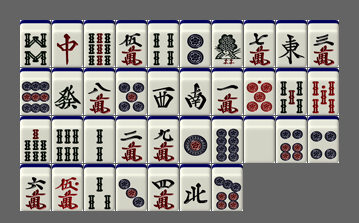0m: (52, 164, 83, 211)
0p: (244, 68, 275, 115)
0s: (308, 68, 339, 115)
1m: (212, 68, 243, 115)
1p: (180, 116, 211, 163)
1s: (212, 20, 243, 67)
1z: (276, 20, 307, 67)
2m: (116, 116, 147, 163)
2p: (180, 20, 211, 67)
2s: (84, 116, 115, 163)
2z: (180, 68, 211, 115)
3m: (308, 20, 339, 67)
3p: (116, 164, 147, 211)
3s: (84, 164, 115, 211)
3z: (148, 68, 179, 115)
4m: (148, 164, 179, 211)
4p: (308, 116, 339, 163)
4s: (148, 20, 179, 67)
4z: (180, 164, 211, 211)
5m: (116, 20, 147, 67)
5p: (116, 68, 147, 115)
5s: (276, 68, 307, 115)
5z: (244, 116, 275, 163)
6m: (20, 164, 51, 211)
6p: (276, 116, 307, 163)
6s: (52, 116, 83, 163)
6z: (52, 68, 83, 115)
7m: (244, 20, 275, 67)
7p: (212, 164, 243, 211)
7s: (20, 116, 51, 163)
7z: (52, 20, 83, 67)
8m: (84, 68, 115, 115)
8p: (212, 116, 243, 163)
8s: (20, 20, 51, 67)
9m: (148, 116, 179, 163)
9p: (20, 68, 51, 115)
9s: (84, 20, 115, 67)
